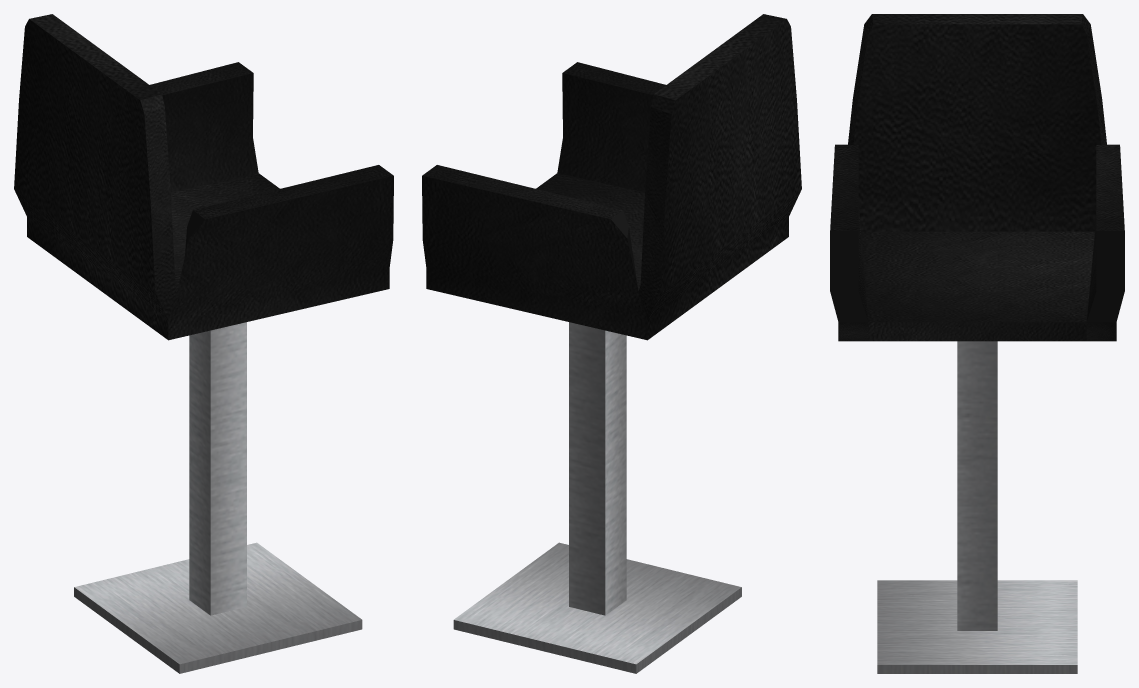
Rendered from BarStoolFBX.fbx.
The picture shows the model from 3 angles, left to right: view 1: azimuth 30°, elevation 25°; view 2: azimuth 150°, elevation 25°; view 3: azimuth 270°, elevation 25°; orthographic projection. The views are drawn at different scales.
Visible parts, largest first — view 1: BarStool; view 2: BarStool; view 3: BarStool.
Part boxes in pixels (x1,y1,x2,y2): BarStool: (14, 14, 393, 673); BarStool: (422, 14, 801, 673); BarStool: (830, 14, 1124, 673).
Size of the model in its own units: 2.53 by 6.13 by 2.94.
